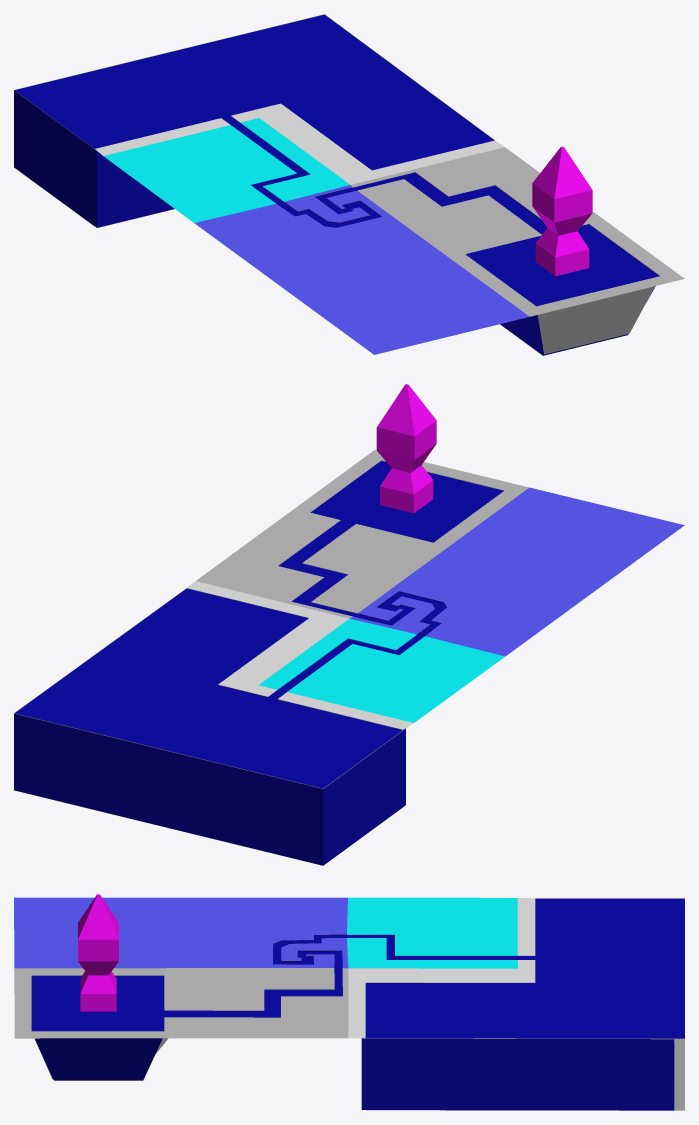
3 views of the same model, one above another, from view 1: azimuth 30°, elevation 25°; view 2: azimuth 150°, elevation 25°; view 3: azimuth 270°, elevation 25° (orthographic). The views are drawn at different scales.
Parts seen in each view (by area): view 1: surface1, ocean, crystal_lake, the_great_amythyst_pillar_of_crystal_lake, river; view 2: ocean, surface1, crystal_lake, the_great_amythyst_pillar_of_crystal_lake, river; view 3: ocean, surface1, crystal_lake, the_great_amythyst_pillar_of_crystal_lake, river.
Boxes of the visible parts, x1,y1,x2,y2 form: surface1: (14,14,684,354); ocean: (14,14,494,227); crystal_lake: (465,224,659,355); the_great_amythyst_pillar_of_crystal_lake: (532,146,592,276); river: (224,118,547,234); ocean: (14,588,405,865); surface1: (14,450,684,865); crystal_lake: (311,461,503,542); the_great_amythyst_pillar_of_crystal_lake: (376,384,436,513); river: (270,521,446,697); ocean: (361,898,684,1110); surface1: (14,897,684,1110); crystal_lake: (31,975,165,1080); the_great_amythyst_pillar_of_crystal_lake: (78,894,118,1011); river: (165,935,530,1017).
Bounding box in the file's own units: 522 × 312 × 1048.
